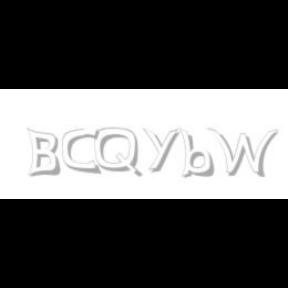B: (26, 128, 60, 178)
C: (62, 128, 100, 174)
Q: (94, 128, 140, 178)
W: (207, 128, 279, 178)
b: (179, 128, 217, 178)
y: (143, 128, 183, 172)
